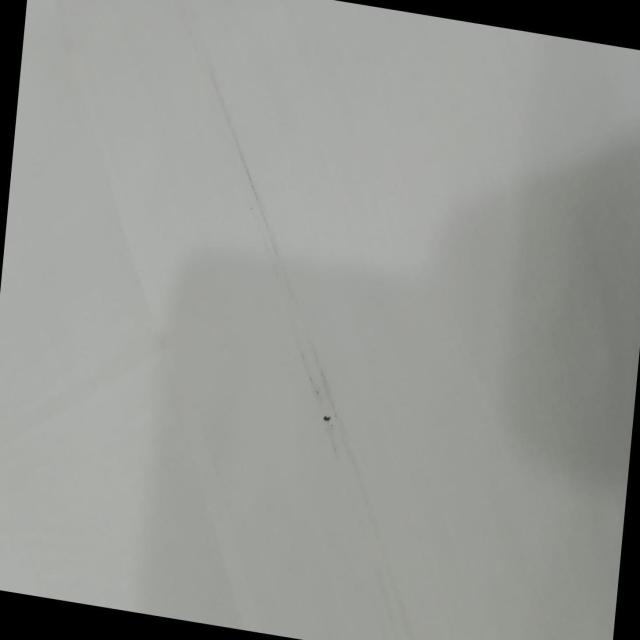stain: (276, 306, 374, 467)
